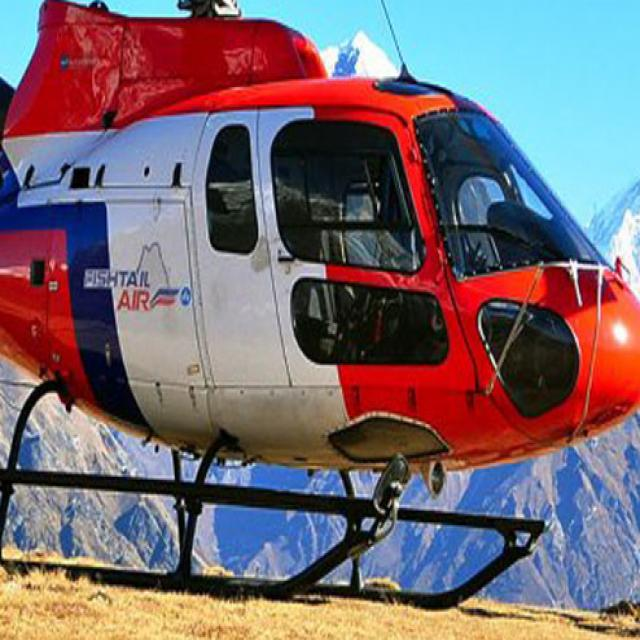helicopter: (1, 1, 640, 618)
